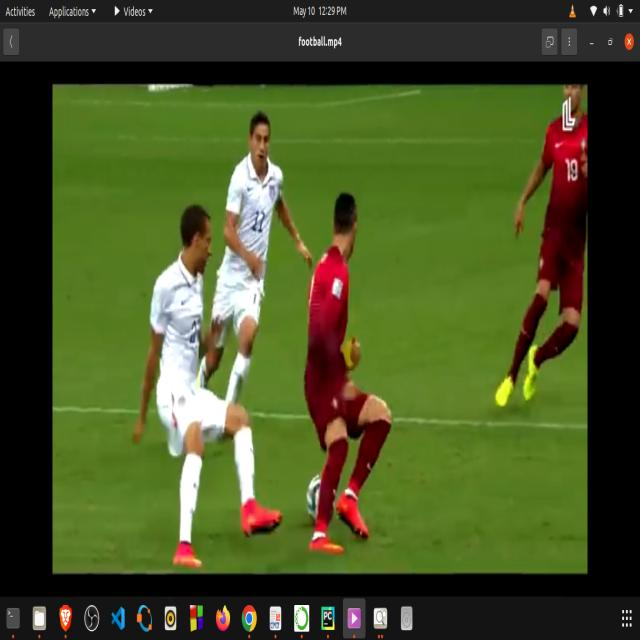Ball: (303, 470, 324, 520)
football-players: (136, 192, 281, 566), (310, 184, 398, 556), (493, 90, 588, 412), (227, 102, 294, 379)
